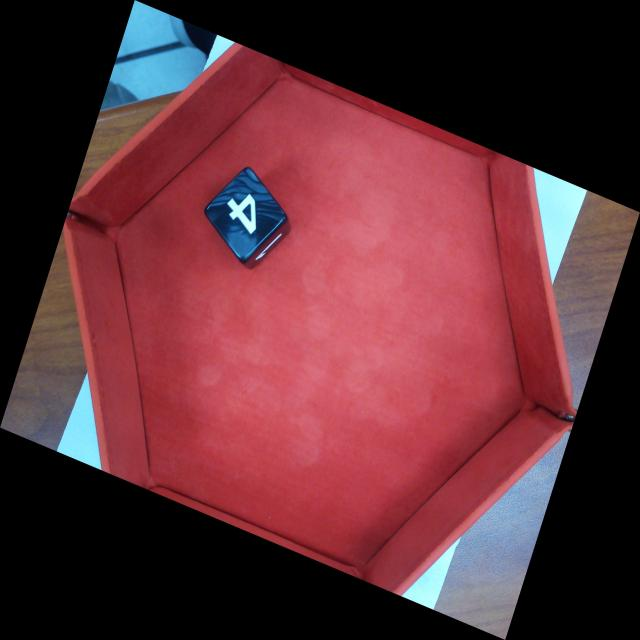dice: (206, 166, 287, 266)
